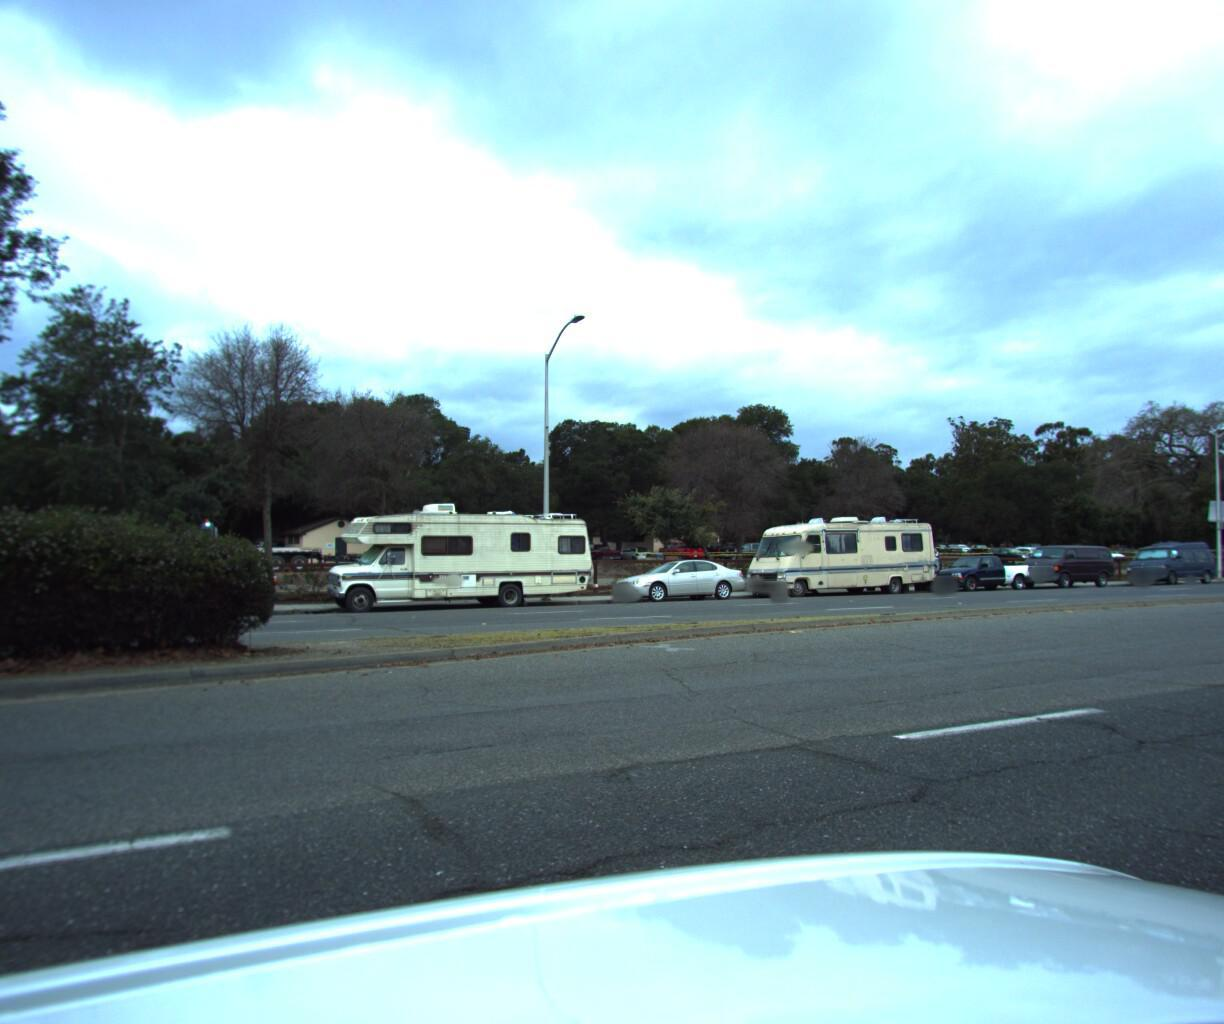car: (602, 553, 751, 600), (1008, 539, 1115, 585), (925, 548, 1033, 591), (1114, 538, 1215, 581), (1220, 549, 1224, 578)
other_vehicle: (322, 495, 606, 615), (737, 508, 943, 597)
